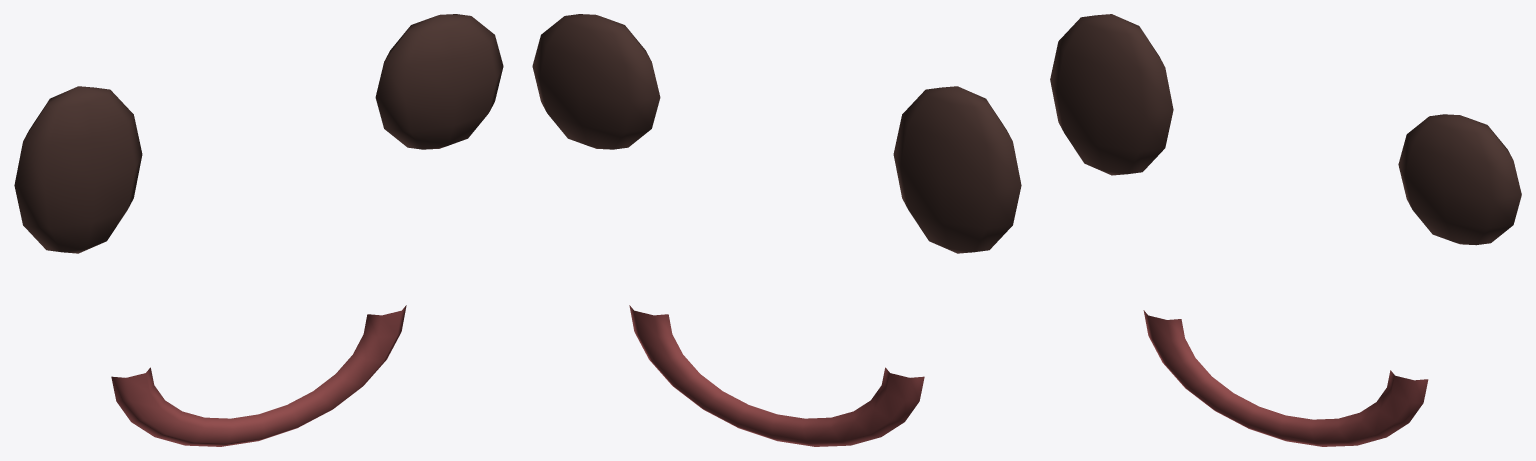
The model's file is joyful_face.glb.
3 views of the same model, side by side, from view 1: azimuth 30°, elevation 25°; view 2: azimuth 150°, elevation 25°; view 3: azimuth 330°, elevation 25° (orthographic). The views are drawn at different scales.
Visible parts, largest first — view 1: eye_l, eye_r, mouth; view 2: eye_l, eye_r, mouth; view 3: eye_l, eye_r, mouth.
Part boxes in pixels (x1,y1,x2,y2): eye_l: (14, 86, 142, 253); eye_r: (375, 14, 503, 149); mouth: (111, 305, 406, 446); eye_l: (893, 86, 1021, 253); eye_r: (532, 14, 660, 149); mouth: (629, 305, 924, 446); eye_l: (1050, 14, 1173, 175); eye_r: (1398, 114, 1521, 245); mouth: (1143, 310, 1428, 446).
Bounding box in the file's own units: 0.298 × 0.2323 × 0.0351.
